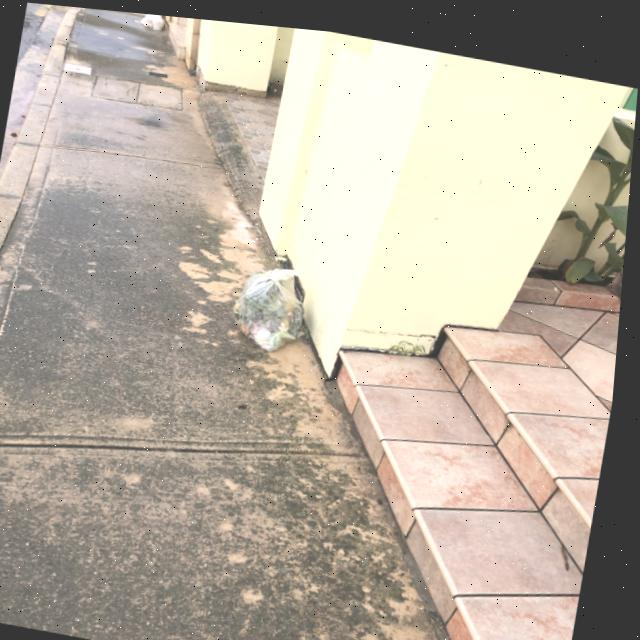Organic Waste -White Bag-: (228, 247, 315, 357), (132, 11, 174, 37)
